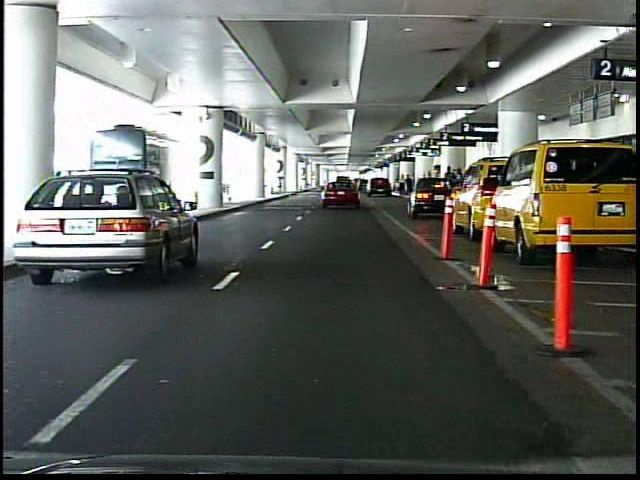person: (441, 162, 459, 212), (452, 166, 467, 211), (398, 174, 407, 196), (406, 173, 413, 196)
